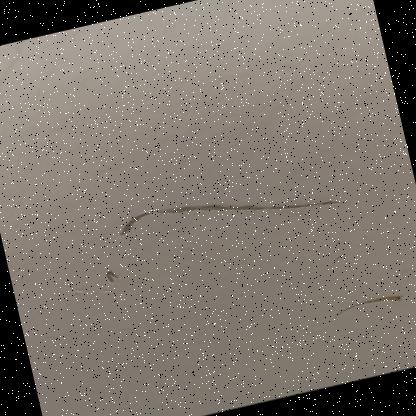Crack: (84, 154, 372, 267), (320, 286, 408, 329), (82, 264, 136, 294)
